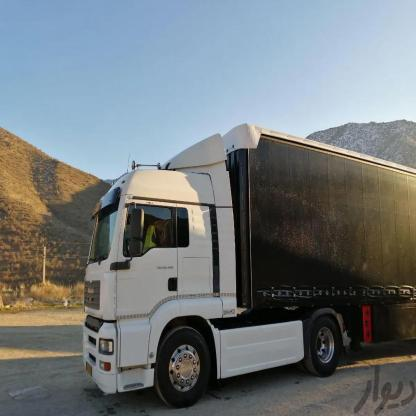Truck: (75, 126, 416, 397)
